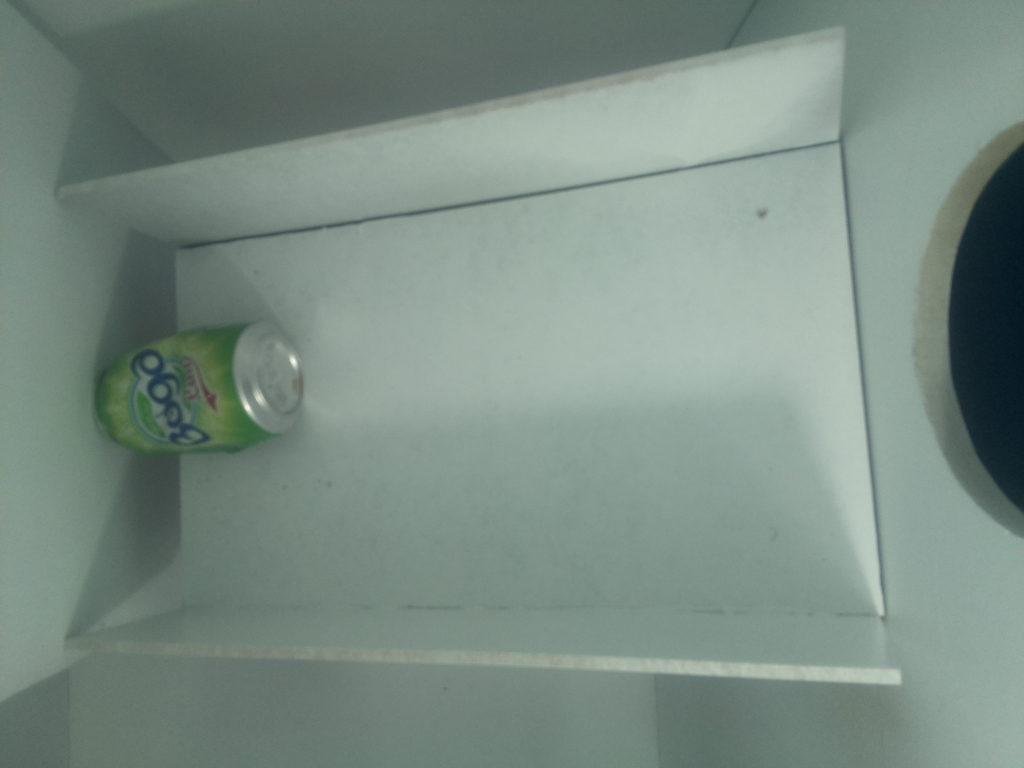kaleng: (99, 321, 307, 467)
